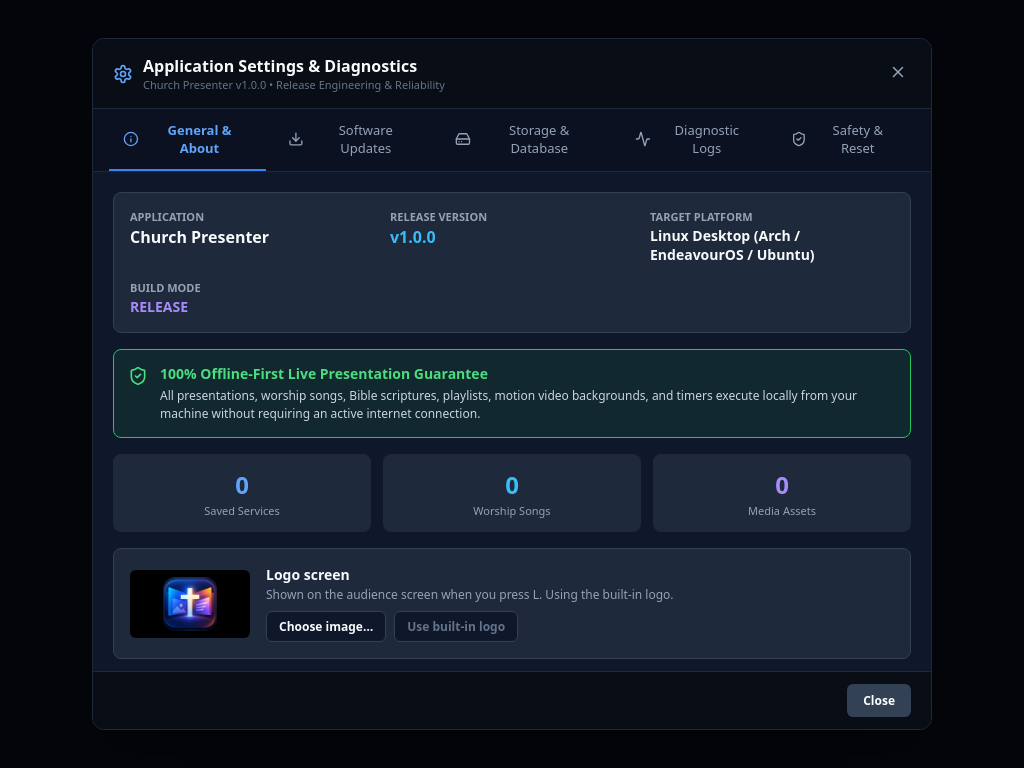
Test: Phase 10.4: Auto-updater (Signed Feeds, Startup Checks & Live Service Lock) › SettingsModal Software Updates Tab UI › LOCKS installation with prominent safety banner when presentation is live
What coordinates should you click on to do the following:
click the button "Software Updates"
I would click on:
 (354, 140)
Its box is [274,109,433,171].
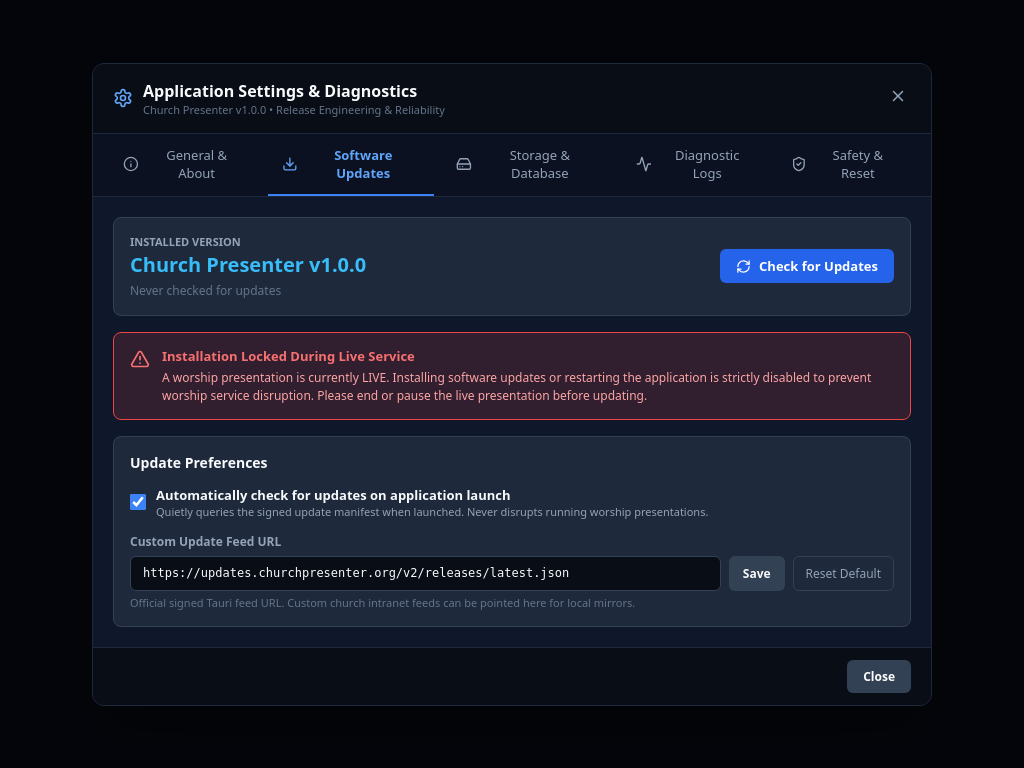
Expected: the element with test id "updater-live-locked-banner" is shown, [113,332,911,420]
Expected: the text "Installation Locked During Live Service" is shown, [162,346,415,364]
What coordinates should you click on to do the following:
click the button with test id "check-updates-btn"
I would click on:
 (807, 266)
Its box is [720,249,894,283].
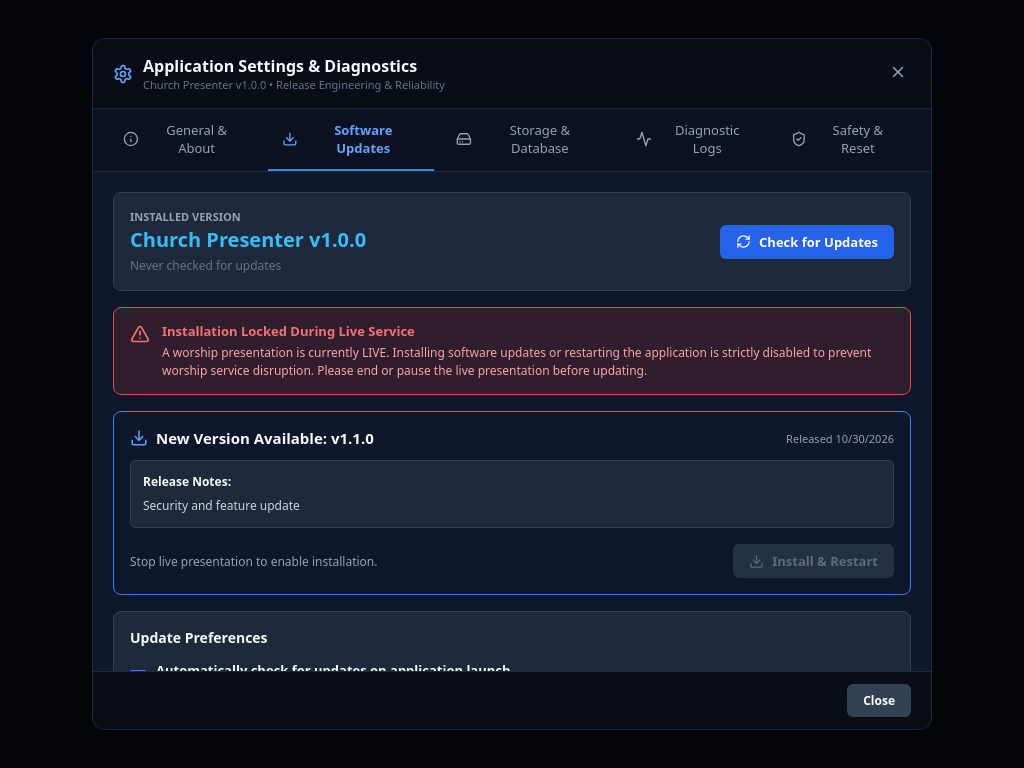
Expected: the element with test id "update-available-card" is shown, [113,411,911,595]
Expected: the button with test id "install-update-btn" is disabled, [733,544,894,578]
